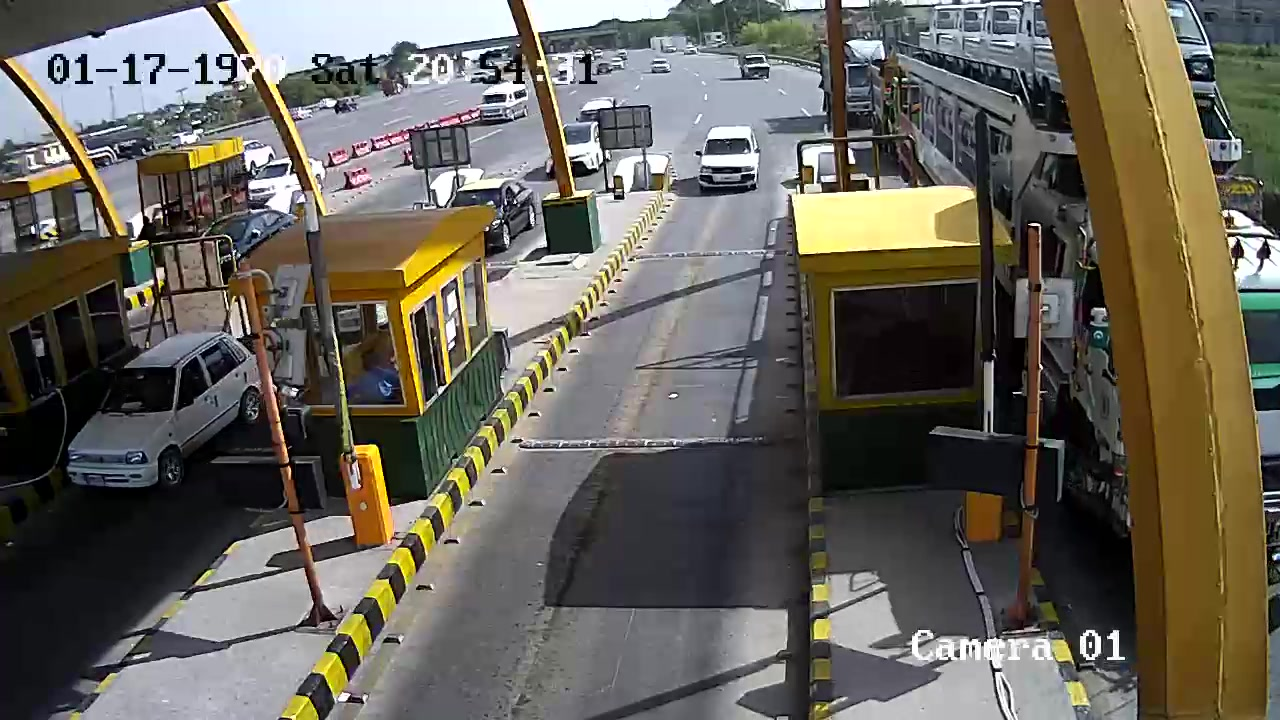F1: (697, 123, 760, 197)
